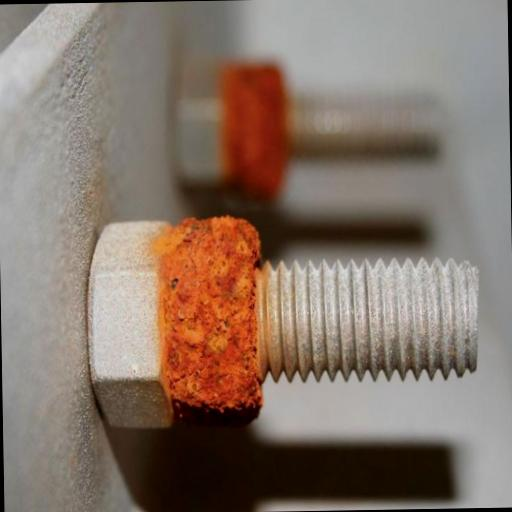corrosion: (154, 215, 263, 424), (221, 63, 290, 196)
